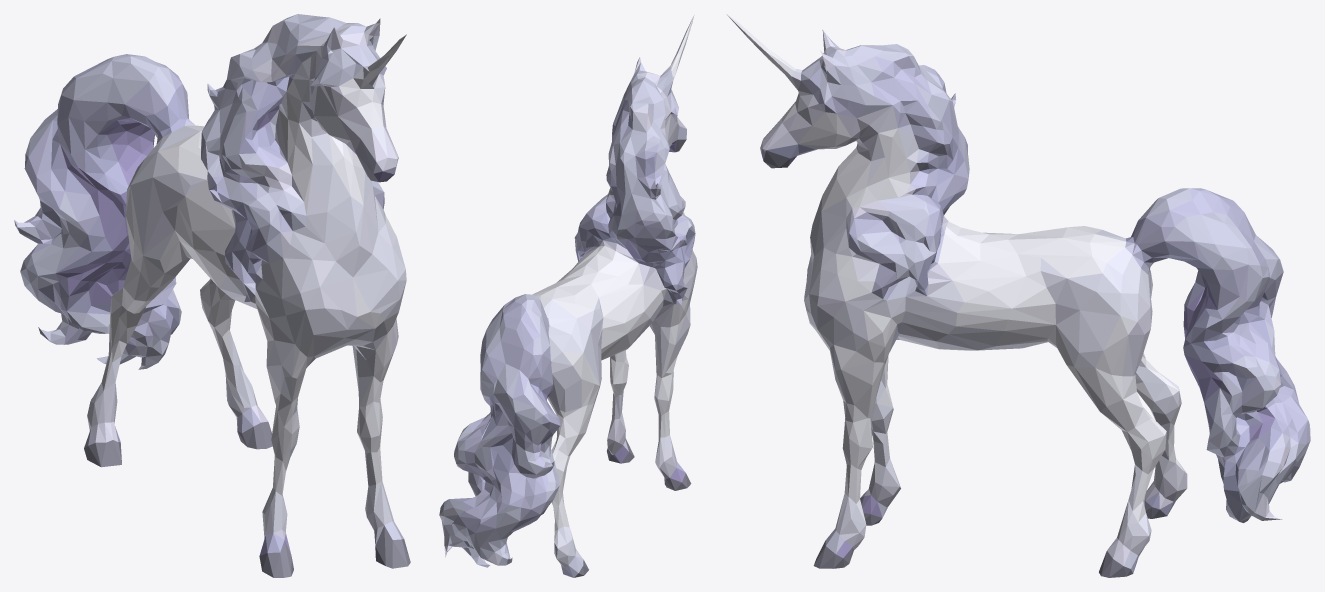
Rendered from preview.glb.
3 renders of one model, left to right at view 1: azimuth 30°, elevation 25°; view 2: azimuth 150°, elevation 25°; view 3: azimuth 270°, elevation 25°, orthographic. The views are drawn at different scales.
Parts seen in each view (by area): view 1: low-poly-unicorn; view 2: low-poly-unicorn; view 3: low-poly-unicorn.
Part boxes in pixels (bbox=[...]): low-poly-unicorn: bbox=[14, 14, 410, 577]; low-poly-unicorn: bbox=[439, 15, 697, 577]; low-poly-unicorn: bbox=[726, 14, 1310, 577].
Bounding box in the file's own units: 0.7737 × 2.42 × 2.41.
1 material, 1 textured.
